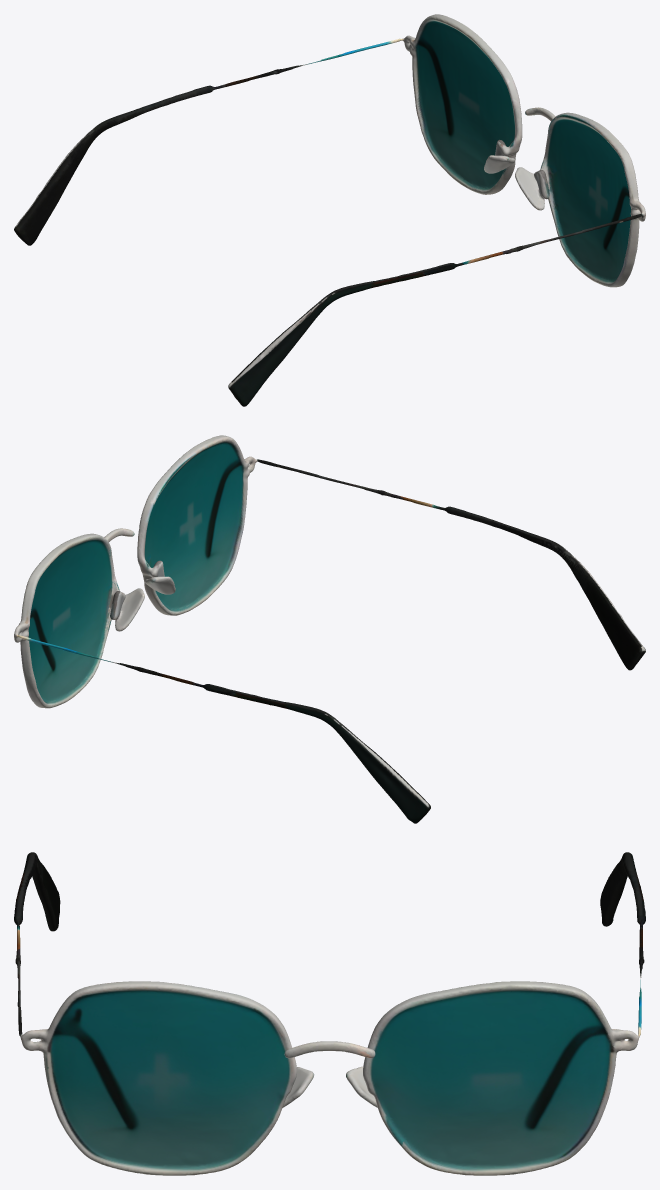
Rendered from lens4.glb.
3 renders of one model, top to bottom at view 1: azimuth 30°, elevation 25°; view 2: azimuth 150°, elevation 25°; view 3: azimuth 270°, elevation 25°, orthographic. The views are drawn at different scales.
Parts seen in each view (by area): view 1: tripo_node_ec259710-662b-436d-8cef-96559430ee0c; view 2: tripo_node_ec259710-662b-436d-8cef-96559430ee0c; view 3: tripo_node_ec259710-662b-436d-8cef-96559430ee0c.
Part boxes in pixels (x1=…): tripo_node_ec259710-662b-436d-8cef-96559430ee0c: x1=14, y1=14, x2=645, y2=406; tripo_node_ec259710-662b-436d-8cef-96559430ee0c: x1=14, y1=435, x2=645, y2=823; tripo_node_ec259710-662b-436d-8cef-96559430ee0c: x1=14, y1=852, x2=645, y2=1175.
Bounding box in the file's own units: 0.9502 × 0.3232 × 0.9382.
1 material, 1 textured.
